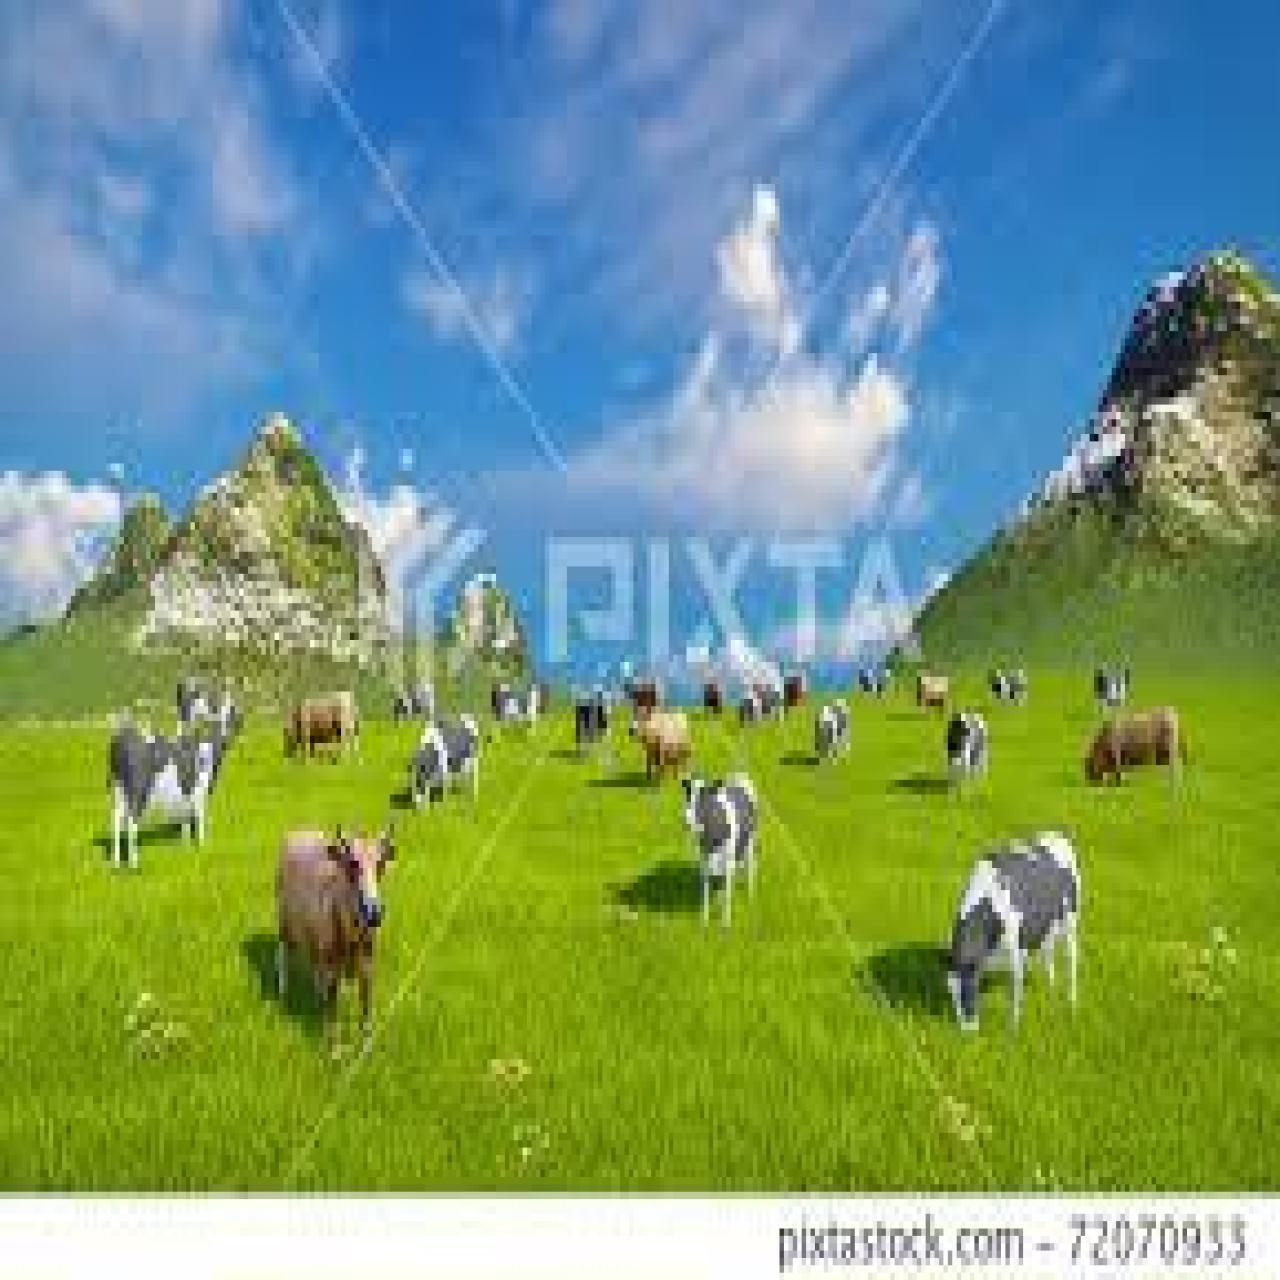cow: (937, 828, 1083, 1034), (274, 813, 399, 1041), (107, 714, 213, 869), (678, 762, 762, 931), (1081, 706, 1191, 787), (406, 707, 485, 817), (277, 680, 366, 769), (172, 666, 248, 761), (625, 699, 695, 788), (486, 673, 549, 738), (944, 706, 988, 787), (810, 688, 851, 769), (572, 688, 612, 754), (988, 662, 1033, 714), (1089, 655, 1133, 707), (914, 659, 954, 710)
